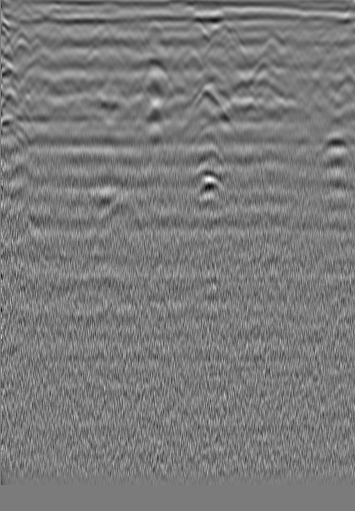상수: (294, 13, 314, 33)
오수: (14, 15, 34, 35)
우수: (143, 20, 163, 40)
